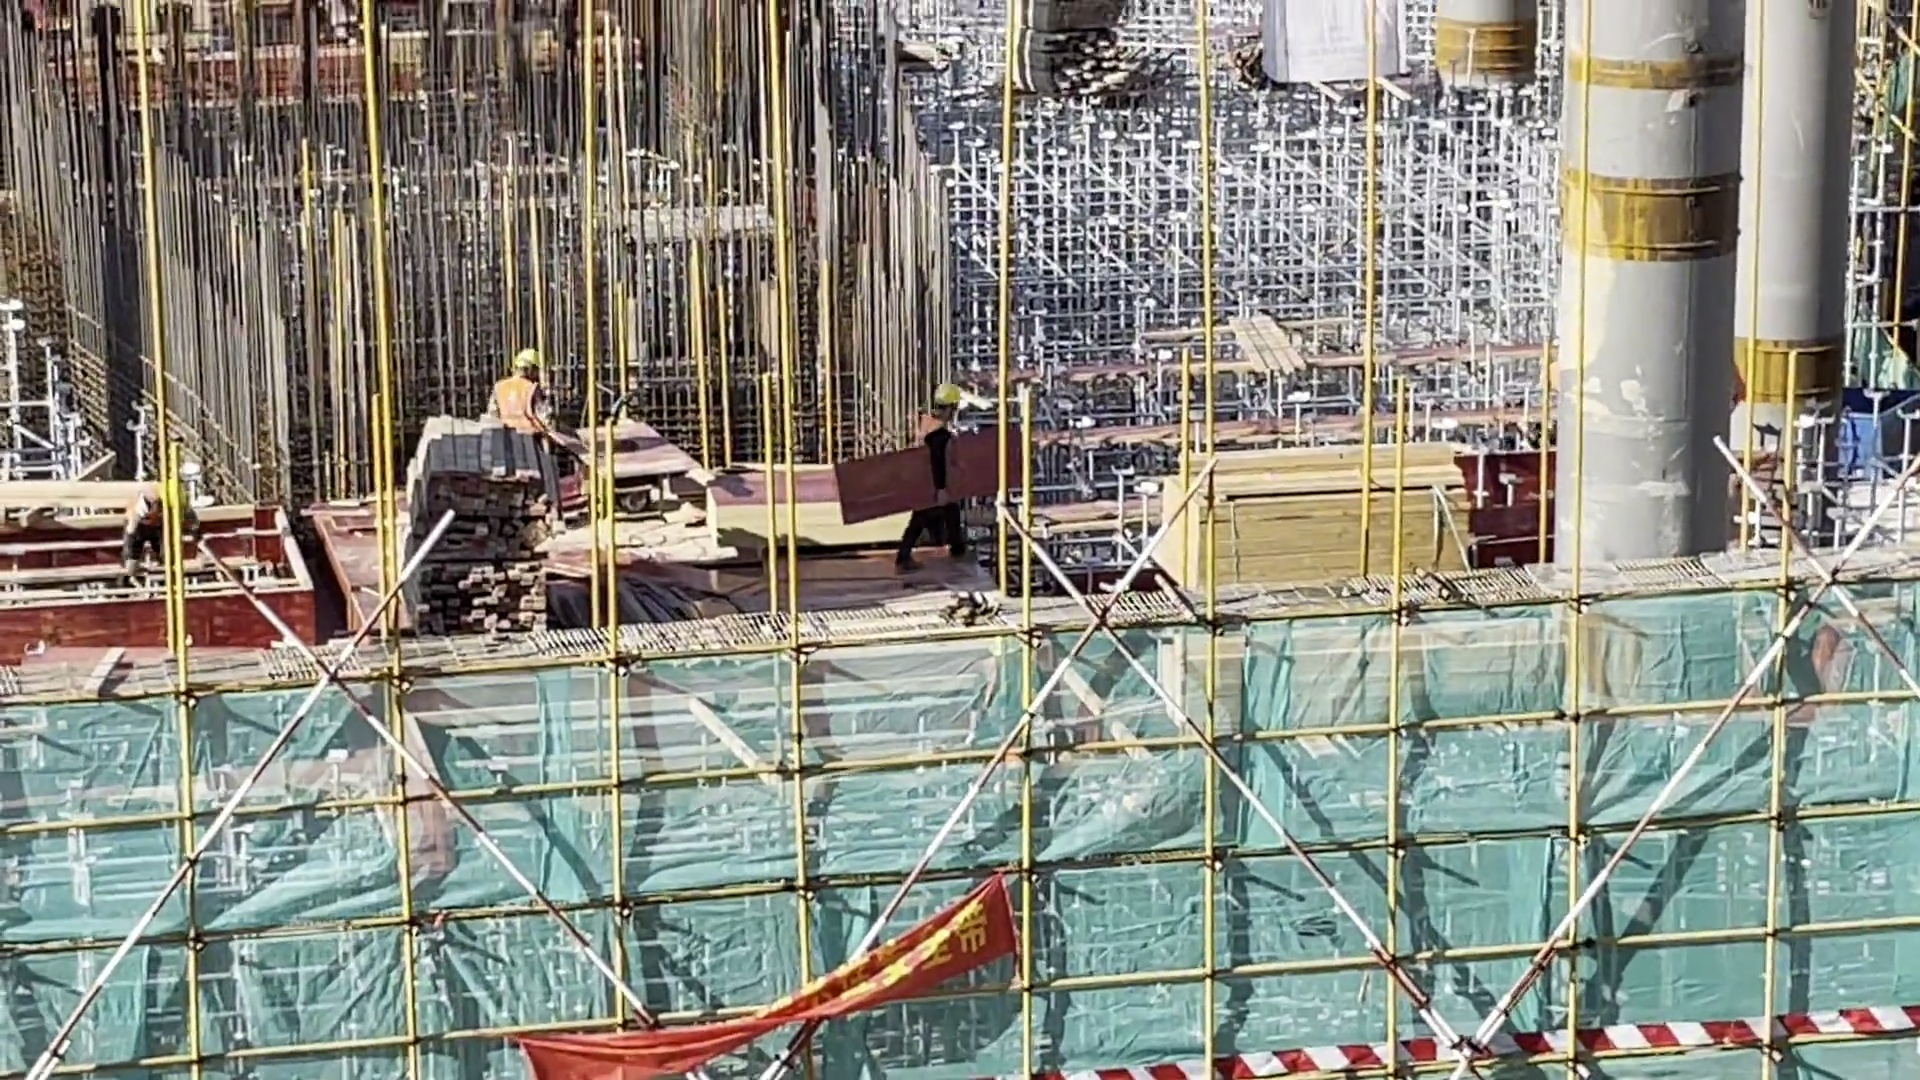helmet: (884, 368, 978, 579), (504, 346, 547, 378)
person: (484, 335, 570, 471), (929, 379, 969, 412)
slogan: (507, 853, 1072, 1080)
vest: (484, 368, 552, 428)
wood: (1151, 434, 1499, 602), (396, 404, 573, 641)
